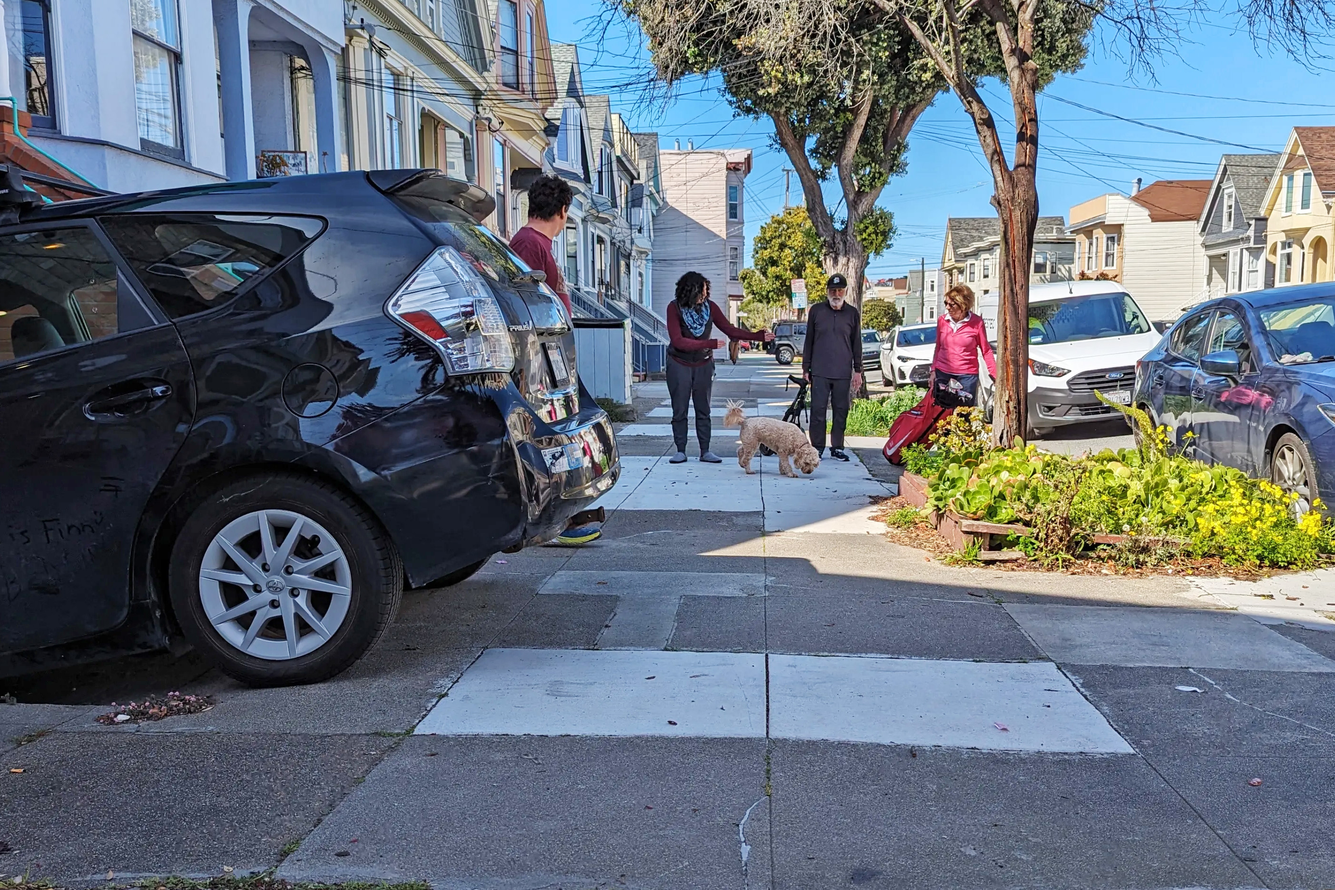Car: (8, 160, 618, 675), (1140, 292, 1335, 501), (1026, 272, 1166, 442)
Dog: (723, 395, 825, 489)
Person: (658, 256, 736, 469), (806, 275, 864, 459), (929, 292, 1004, 423)
Tree: (988, 30, 1045, 474)
